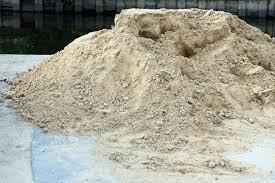sand: (220, 82, 254, 111), (107, 119, 141, 142), (98, 61, 122, 83)
